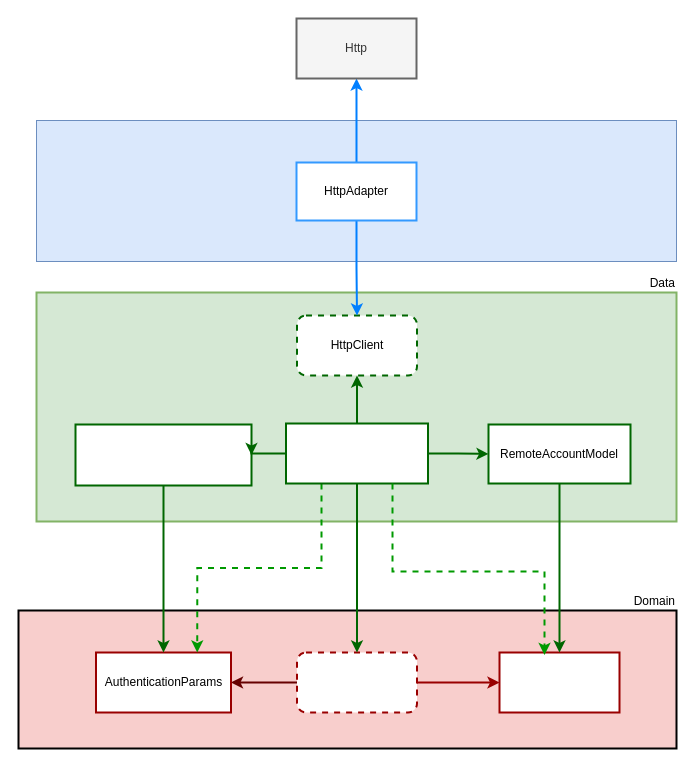
Some shapes in this 694 by 766 pixel diagram are drawn without their labels. Here are the shapes that lost their labels. From the top down, the centre of each, then its label:
At (163,454): "RemoteAuthenticationParams".
At (356,453): "RemoteAuthenctication".
At (357,682): "Authenctication".
At (559,682): "AccountEntity".
